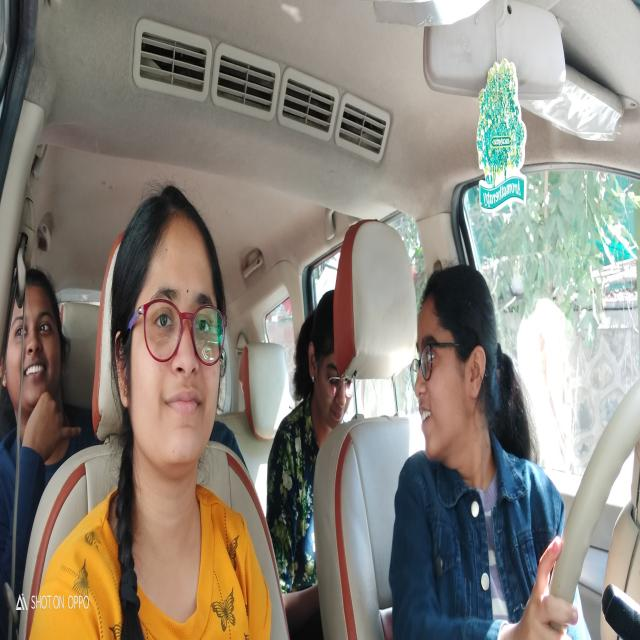LeftRight: (410, 246, 512, 483)
person: (102, 168, 232, 495), (286, 268, 361, 437), (1, 268, 68, 417)
talking: (416, 391, 434, 435)
